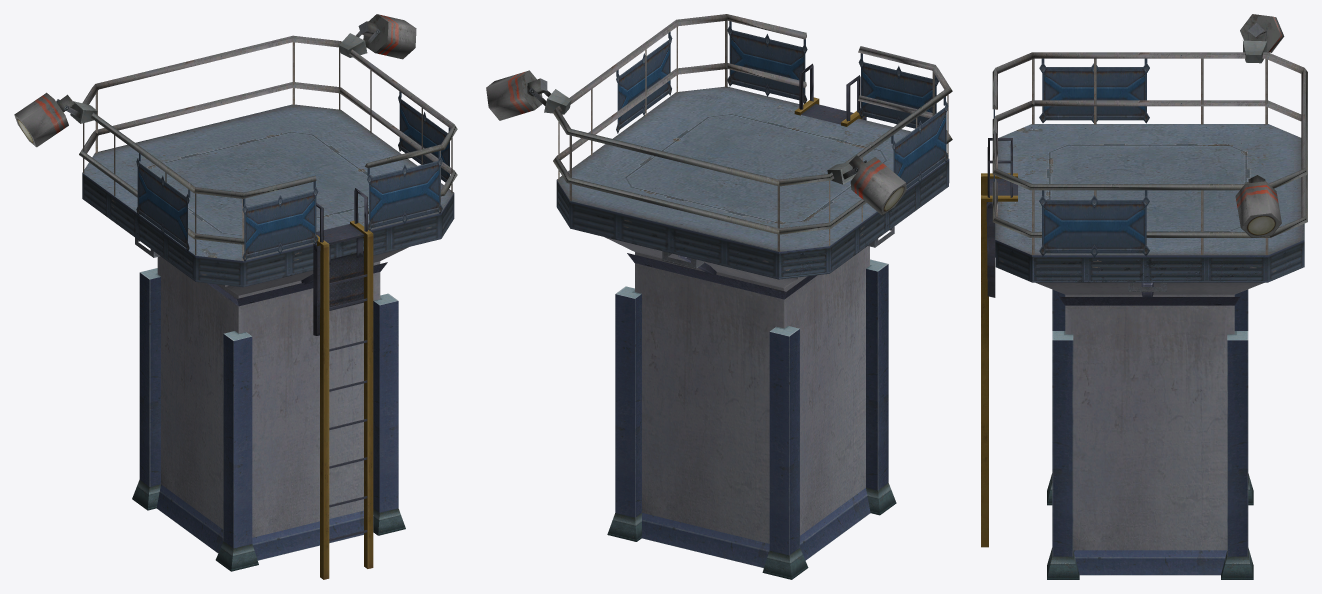
Rendered from Prop_Lwt01_lod1.glb.
The picture shows the model from 3 angles, left to right: view 1: azimuth 30°, elevation 25°; view 2: azimuth 150°, elevation 25°; view 3: azimuth 270°, elevation 25°; orthographic projection. The views are drawn at different scales.
Parts seen in each view (by area): view 1: xiutz_lwt01_lod1_0; view 2: xiutz_lwt01_lod1_0; view 3: xiutz_lwt01_lod1_0.
Part boxes in pixels (x1,y1,x2,y2): xiutz_lwt01_lod1_0: [14, 14, 457, 579]; xiutz_lwt01_lod1_0: [486, 14, 952, 579]; xiutz_lwt01_lod1_0: [981, 14, 1307, 579].
Bounding box in the file's own units: 7.94 × 8.11 × 5.49.
Materials: 2 (2 with a texture image).
